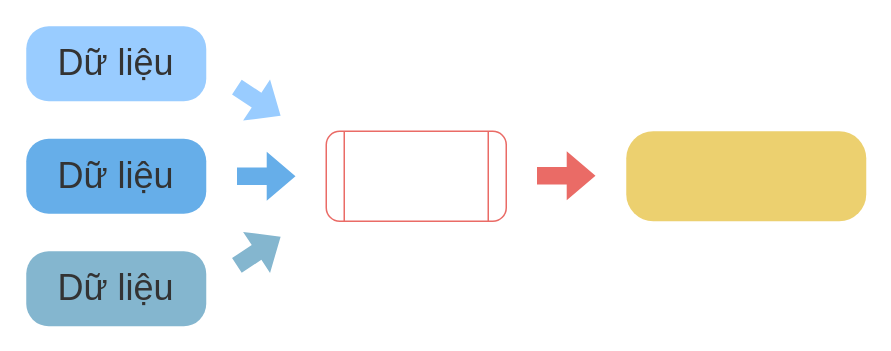
This 891x351 diagram has some shape labels left out. Each missing label, with the centre of its shape:
"Thông tin" goes at point (746, 175).
"Xử lý" goes at point (415, 175).
